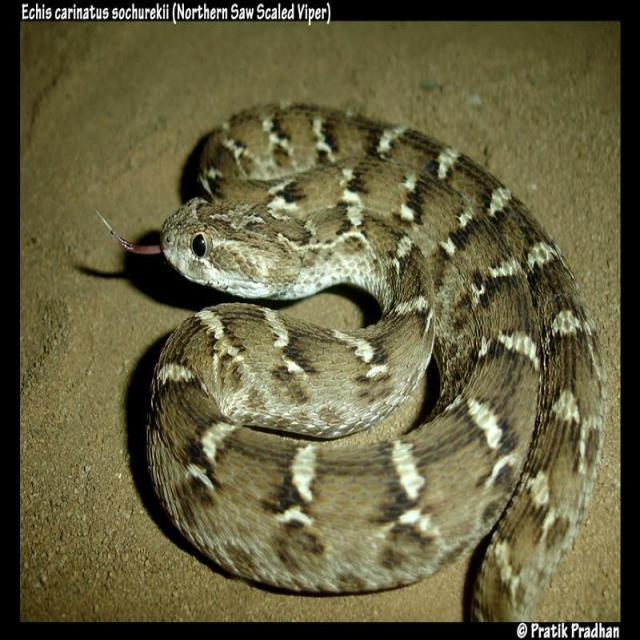Snake: (97, 98, 607, 621)
